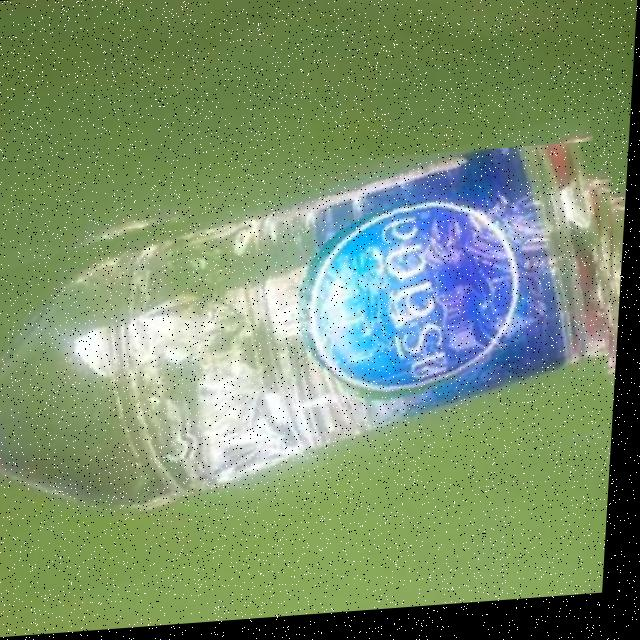litter: (0, 148, 631, 587)
